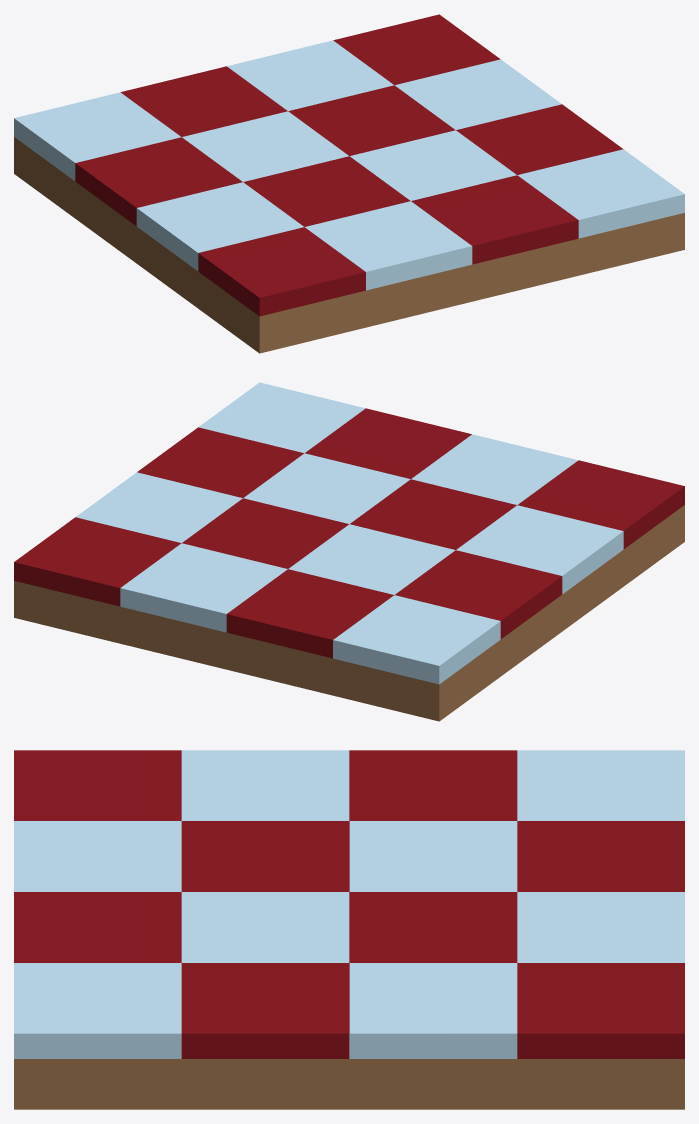
Rendered from quaternius-sushi-restaurant-floor-kitchen-1.glb.
3 renders of one model, top to bottom at view 1: azimuth 30°, elevation 25°; view 2: azimuth 150°, elevation 25°; view 3: azimuth 270°, elevation 25°, orthographic. The views are drawn at different scales.
Parts seen in each view (by area): view 1: Floor_Kitchen1; view 2: Floor_Kitchen1; view 3: Floor_Kitchen1.
Boxes of the visible parts, x1,y1,x2,y2 form: Floor_Kitchen1: (14,14,684,353); Floor_Kitchen1: (14,382,684,721); Floor_Kitchen1: (14,750,684,1109).
Size of the model in its own units: 4 by 0.5 by 4.
1 material, 1 textured.
